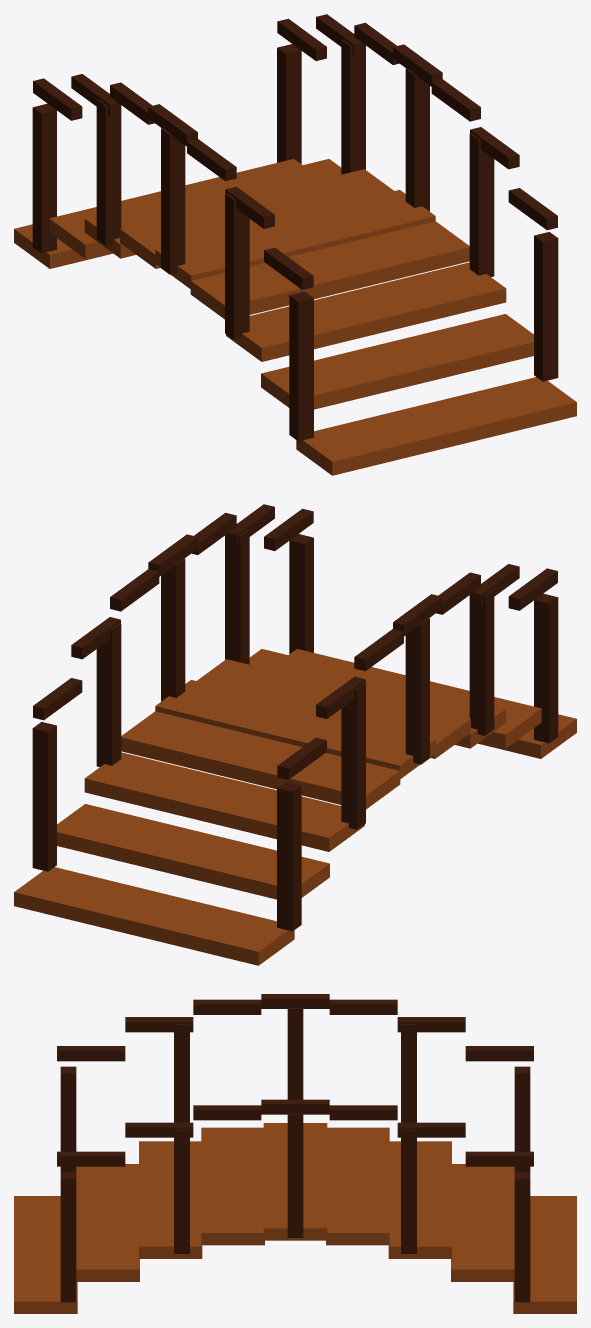
Rendered from small_bridge.obj.
3 views of the same model, one above another, from view 1: azimuth 30°, elevation 25°; view 2: azimuth 150°, elevation 25°; view 3: azimuth 270°, elevation 25° (orthographic). The views are drawn at different scales.
Parts seen in each view (by area): view 1: small_bridge; view 2: small_bridge; view 3: small_bridge.
Part boxes in pixels (x1=…): small_bridge: x1=14, y1=14, x2=576, y2=475; small_bridge: x1=14, y1=504, x2=576, y2=965; small_bridge: x1=14, y1=994, x2=576, y2=1313.
Size of the model in its own units: 1.17 by 1.03 by 2.48.
